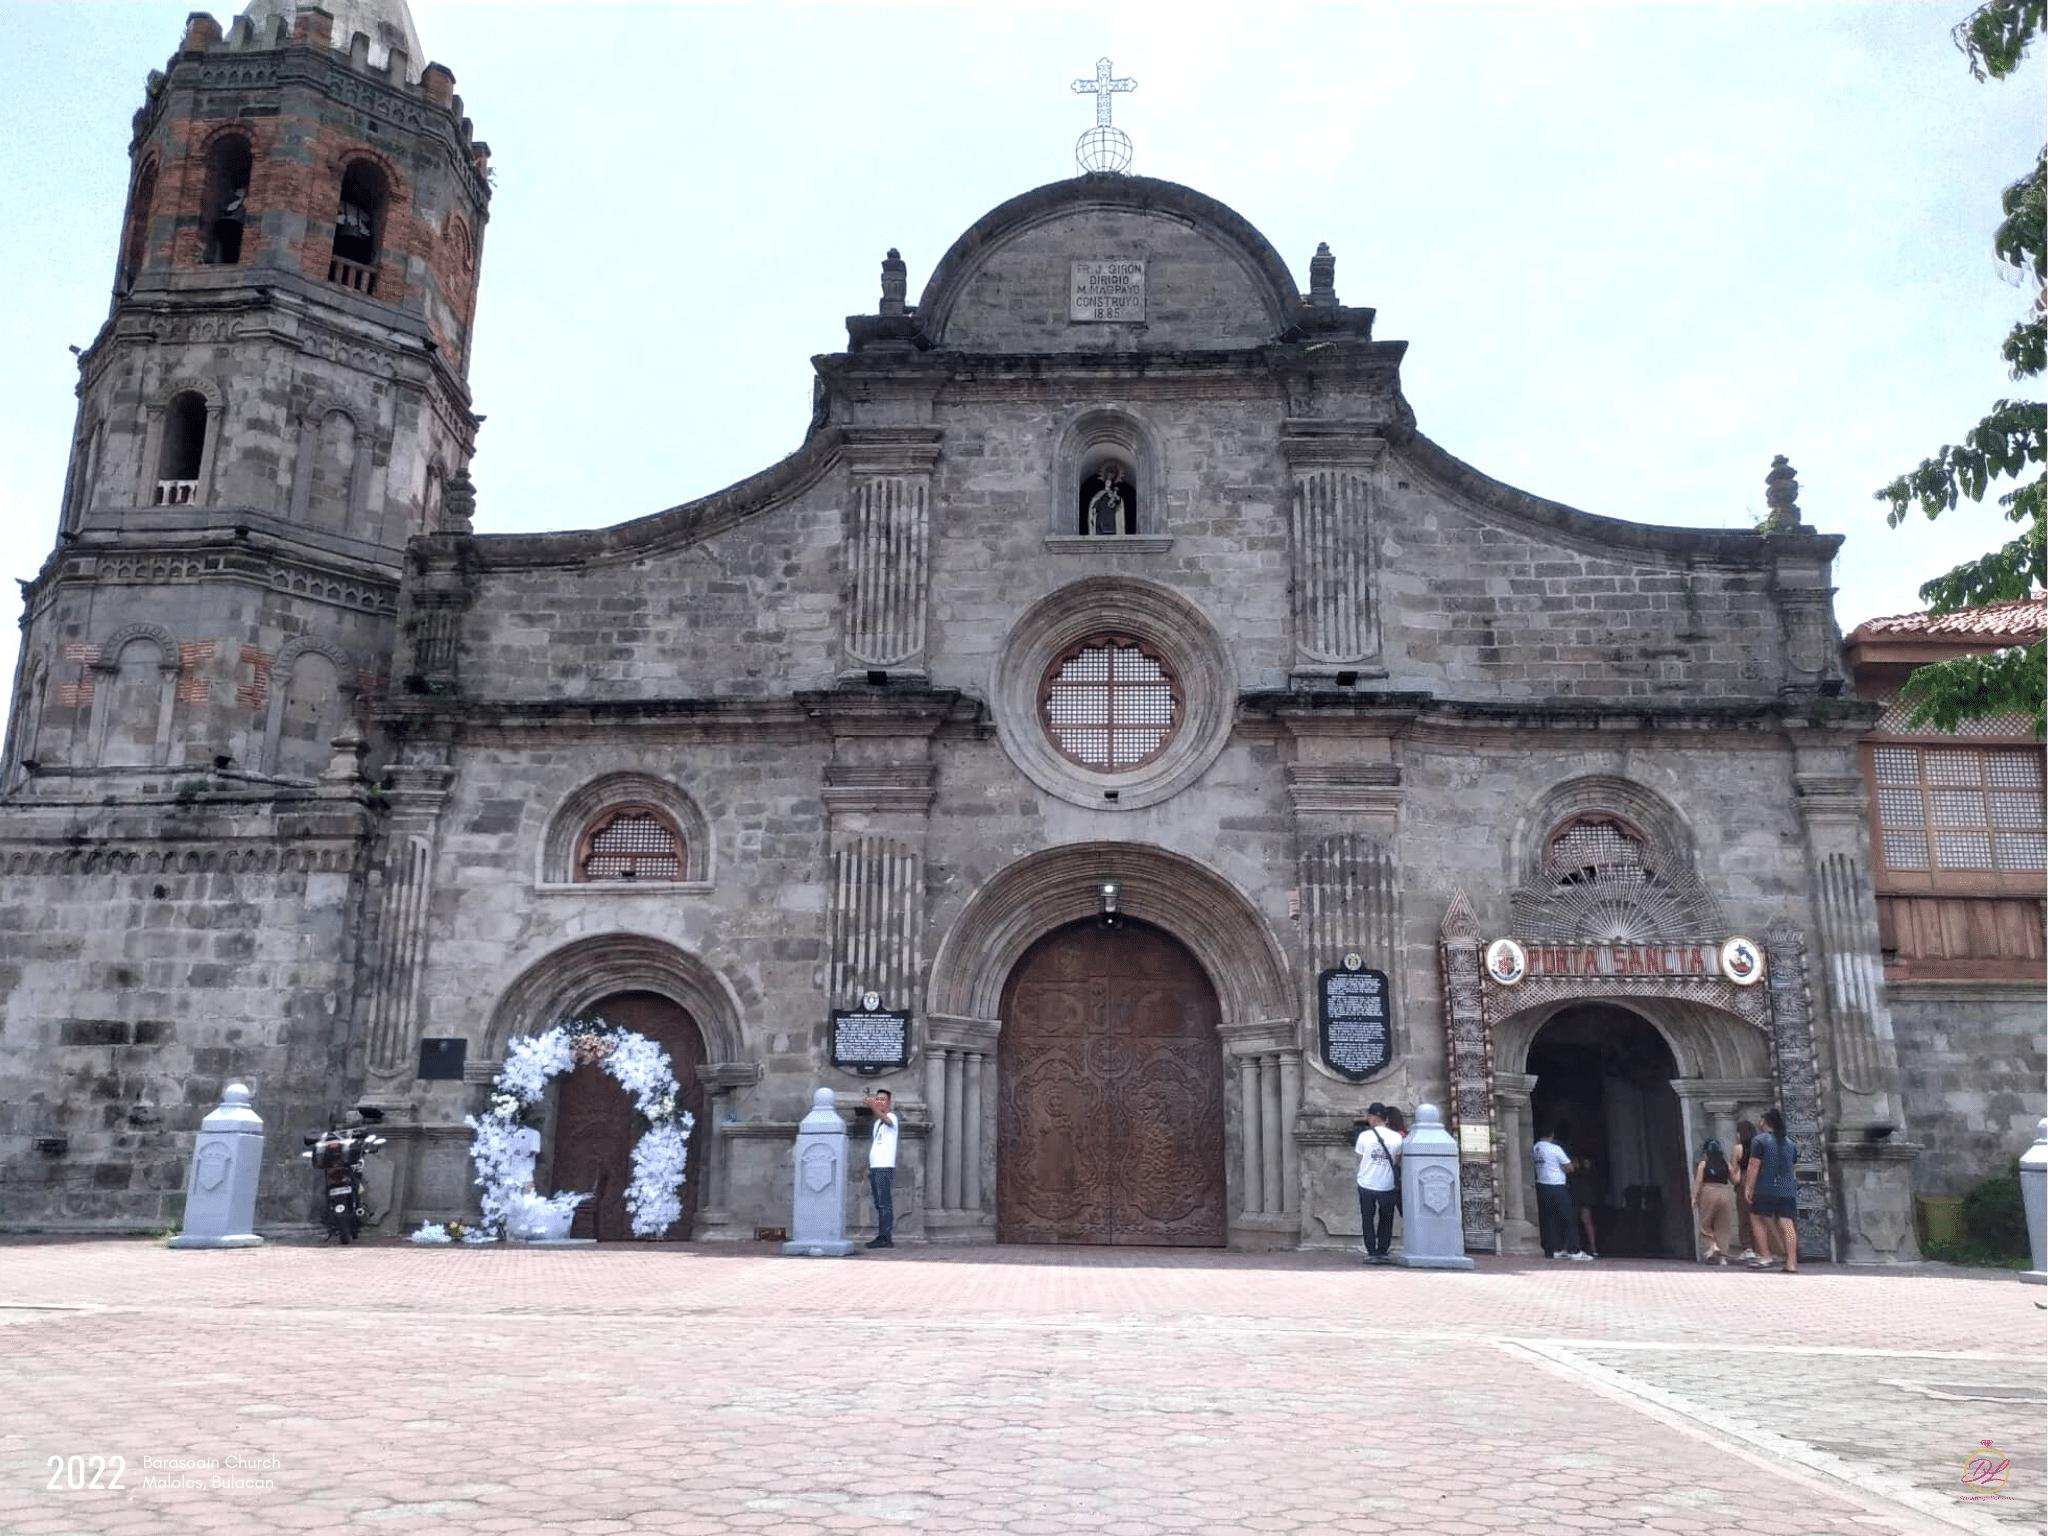barasoain_church_malolos_bulacan: (27, 2, 1896, 1257)
